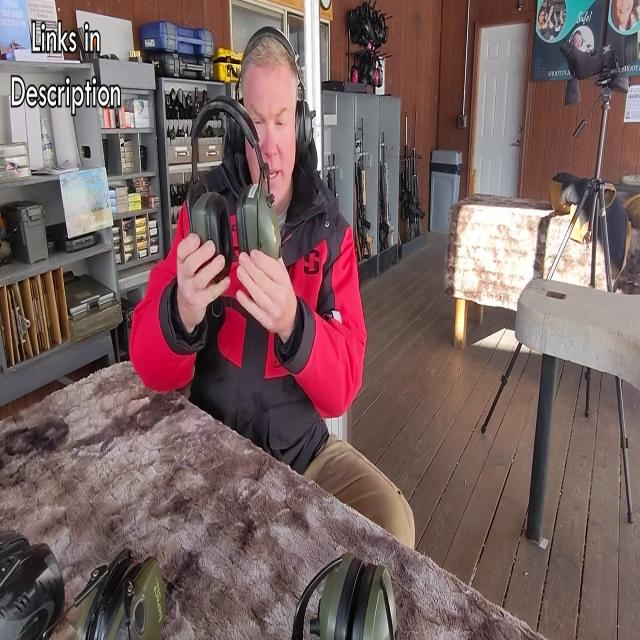earmuff: (190, 190, 235, 292), (236, 180, 284, 271), (292, 96, 318, 164), (224, 95, 248, 163)
